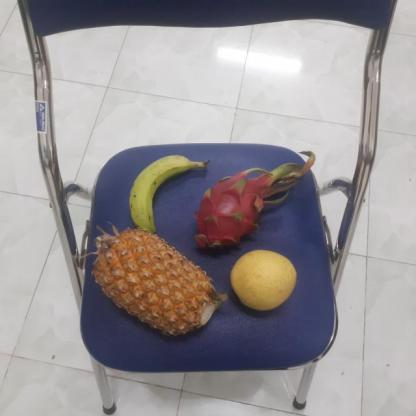banana: (126, 154, 201, 235)
pear: (228, 246, 298, 313)
pineapple: (88, 226, 219, 339)
pitaya: (190, 170, 278, 253)
